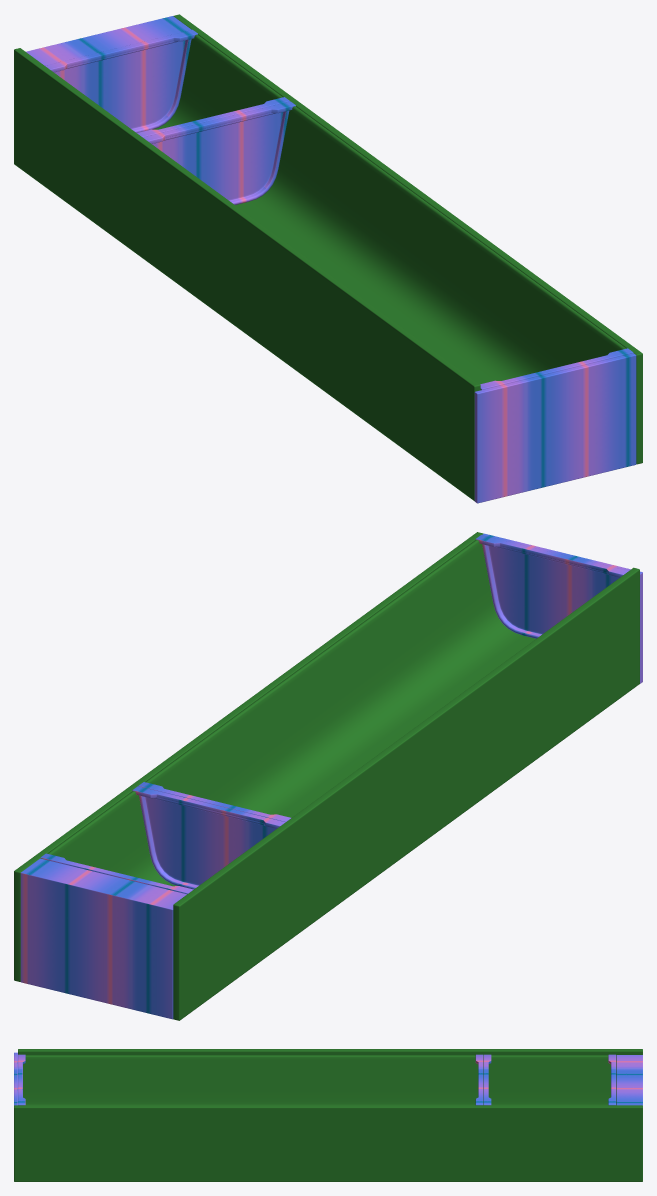
File: SM_Drawer_Divider_08.fbx
The picture shows the model from 3 angles, top to bottom: view 1: azimuth 30°, elevation 25°; view 2: azimuth 150°, elevation 25°; view 3: azimuth 270°, elevation 25°; orthographic projection. The views are drawn at different scales.
Visible parts, largest first — view 1: SM_Drawer_Divider_08; view 2: SM_Drawer_Divider_08; view 3: SM_Drawer_Divider_08.
Part boxes in pixels (x1,y1,x2,y2): SM_Drawer_Divider_08: (14, 14, 642, 503); SM_Drawer_Divider_08: (14, 532, 642, 1020); SM_Drawer_Divider_08: (14, 1049, 642, 1181).
Size of the model in its own units: 9.8 by 6.5 by 47.39.
2 materials, 1 textured.
